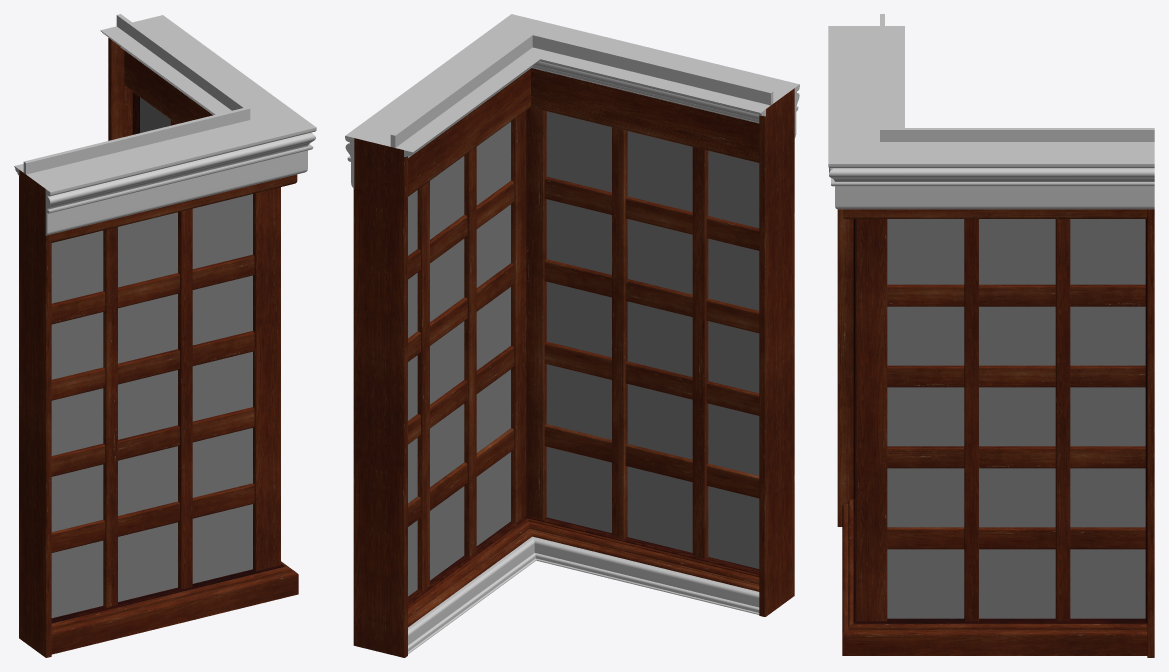
The model's file is SM_SteamPunk_Window_Exterior_Corner.fbx.
3 views of the same model, side by side, from view 1: azimuth 30°, elevation 25°; view 2: azimuth 150°, elevation 25°; view 3: azimuth 270°, elevation 25° (orthographic). The views are drawn at different scales.
Parts seen in each view (by area): view 1: SM_SteamPunk_Window_Exterior_Corner_LOD0; view 2: SM_SteamPunk_Window_Exterior_Corner_LOD0; view 3: SM_SteamPunk_Window_Exterior_Corner_LOD0.
Part boxes in pixels (box(x1,y1,x2,y2)): SM_SteamPunk_Window_Exterior_Corner_LOD0: box(14, 14, 316, 657); SM_SteamPunk_Window_Exterior_Corner_LOD0: box(345, 14, 799, 657); SM_SteamPunk_Window_Exterior_Corner_LOD0: box(828, 14, 1154, 657).
Size of the model in its own units: 178 by 178 by 307.
